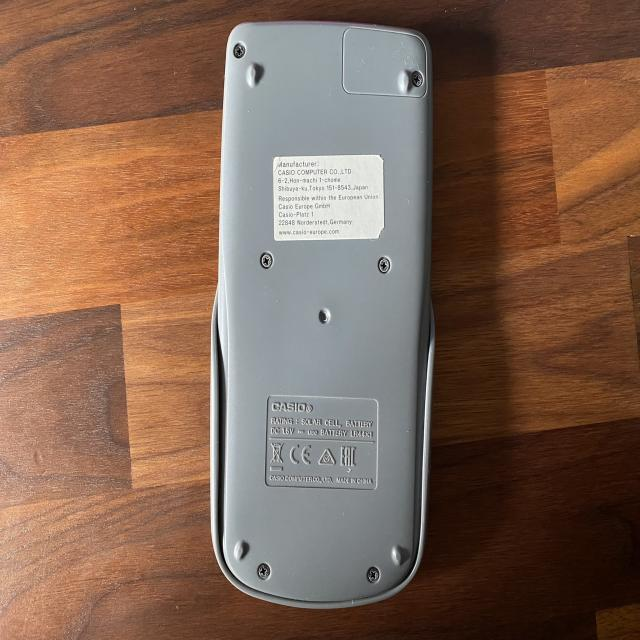PhillipsScrewHead: (367, 567, 380, 583), (412, 70, 423, 88), (261, 252, 272, 270), (258, 562, 268, 580), (234, 44, 245, 60), (378, 258, 389, 273)
